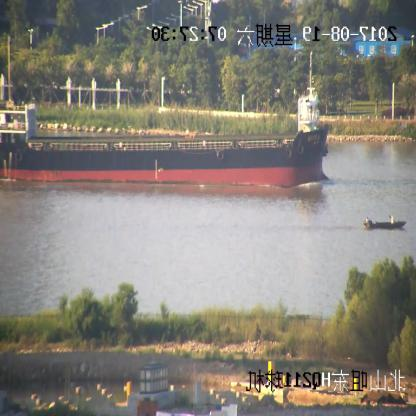Fishing Boat: (364, 212, 404, 230)
